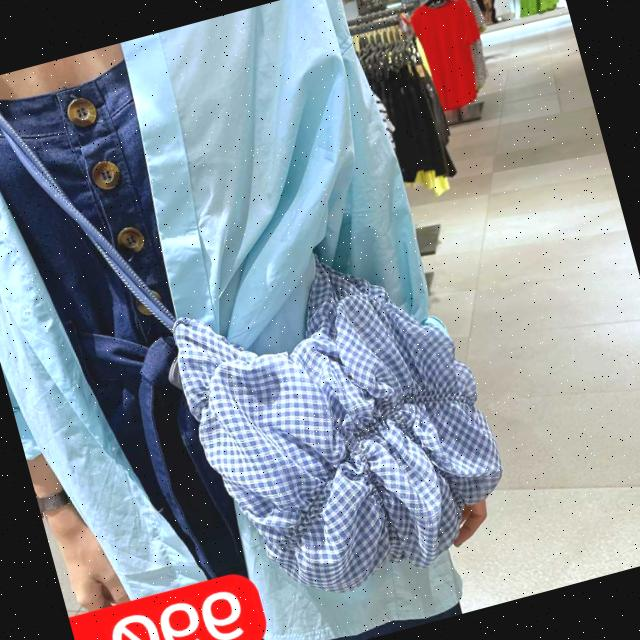handbag: (140, 207, 537, 640)
